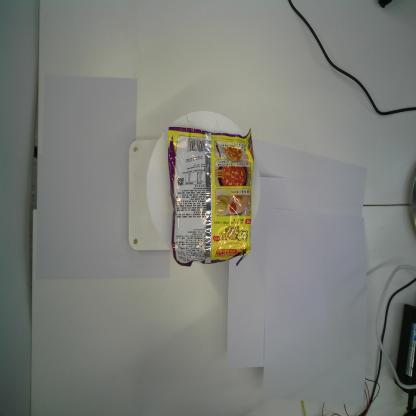Instant Noodles: (167, 124, 257, 268)
